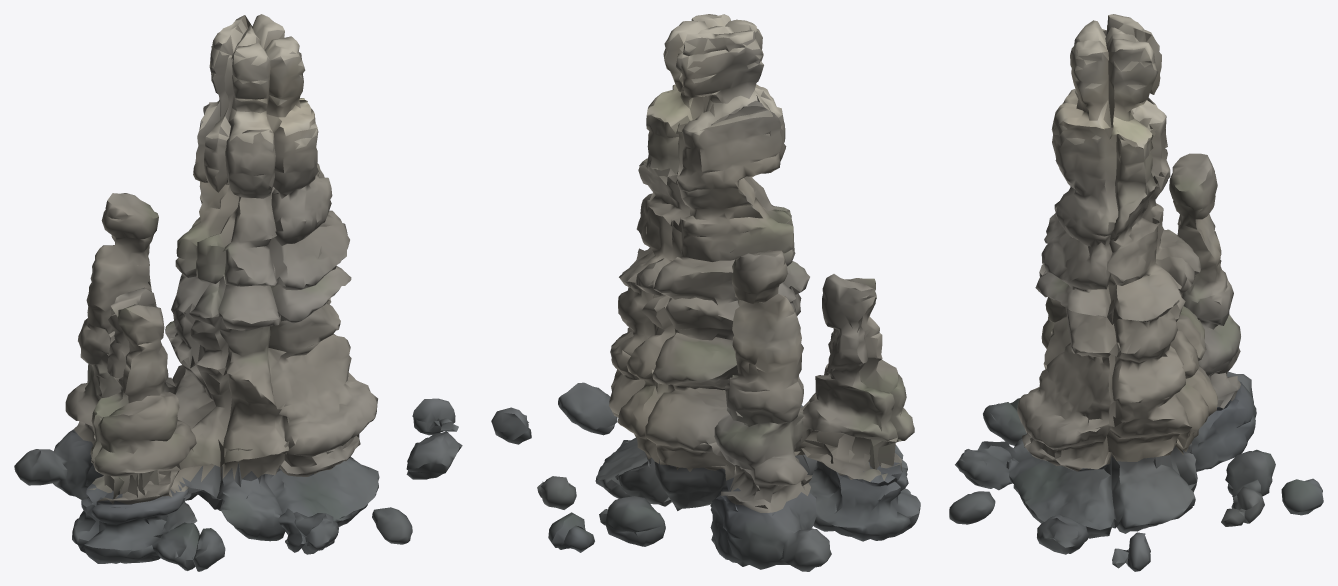
The model's file is searock_a.1d3bfd87.glb.
The picture shows the model from 3 angles, left to right: view 1: azimuth 30°, elevation 25°; view 2: azimuth 150°, elevation 25°; view 3: azimuth 270°, elevation 25°; orthographic projection. The views are drawn at different scales.
Visible parts, largest first — view 1: searock_a; view 2: searock_a; view 3: searock_a.
Boxes of the visible parts, box(x1,y1,x2,y2) form: searock_a: box(14, 14, 462, 571); searock_a: box(491, 14, 920, 571); searock_a: box(949, 14, 1323, 571).
Size of the model in its own units: 9.53 by 11.08 by 7.95.
